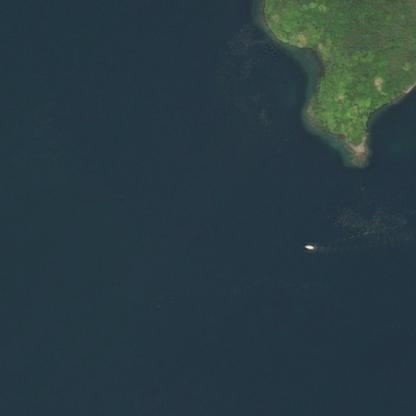ship: (296, 237, 319, 255)
